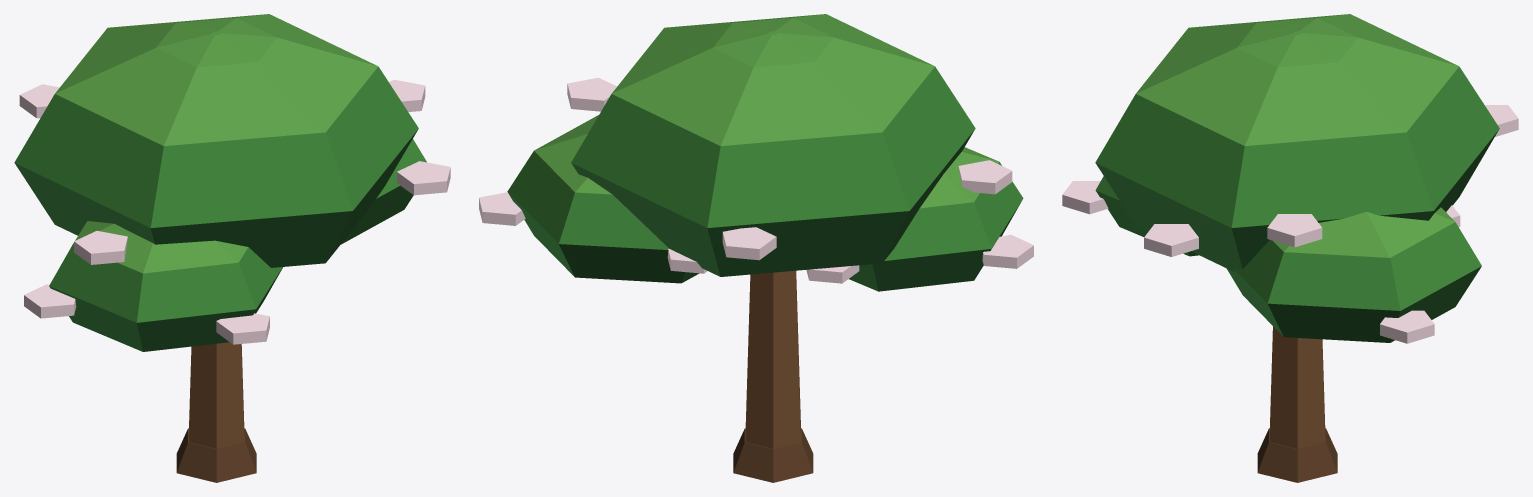
The model's file is orange-3.glb.
3 views of the same model, side by side, from view 1: azimuth 30°, elevation 25°; view 2: azimuth 150°, elevation 25°; view 3: azimuth 270°, elevation 25° (orthographic).
Visible parts, largest first — view 1: orange-3; view 2: orange-3; view 3: orange-3.
Part boxes in pixels (bbox=[...]): orange-3: bbox=[14, 14, 450, 482]; orange-3: bbox=[479, 14, 1033, 482]; orange-3: bbox=[1062, 14, 1518, 482].
Size of the model in its own units: 0.5122 by 0.46 by 0.4424.
Materials: 1 (1 with a texture image).
